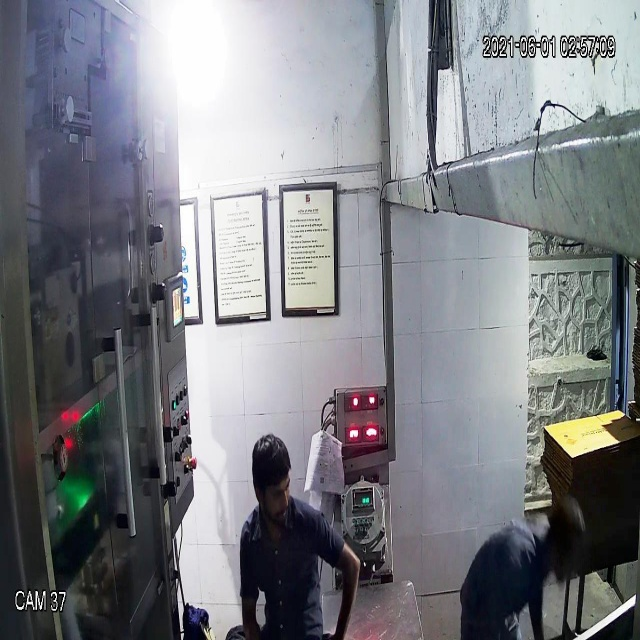Sin_gafas: (254, 476, 295, 508)
